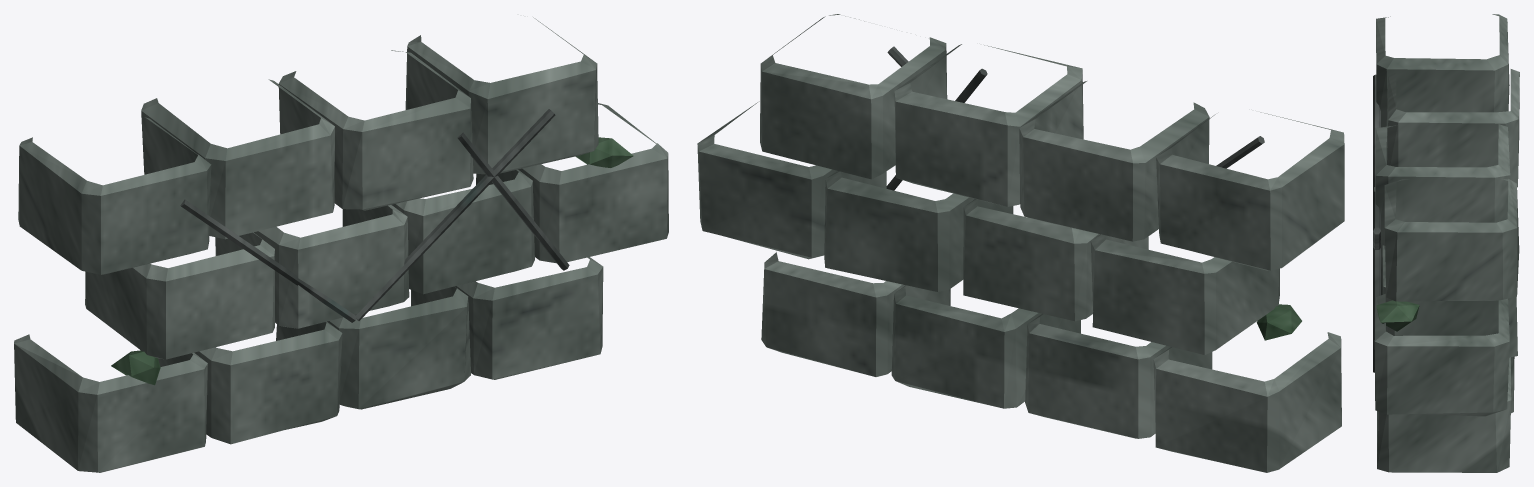
Rendered from 0343_wall_section_18.glb.
3 views of the same model, side by side, from view 1: azimuth 30°, elevation 25°; view 2: azimuth 150°, elevation 25°; view 3: azimuth 270°, elevation 25° (orthographic). The views are drawn at different scales.
Visible parts, largest first — view 1: stone, iron, moss; view 2: stone, iron, moss; view 3: stone, iron, moss.
Boxes of the visible parts, left/top/right/bottom form: stone: left=14, top=17, right=668, bottom=472; iron: left=180, top=109, right=569, bottom=322; moss: left=111, top=137, right=633, bottom=385; stone: left=697, top=14, right=1344, bottom=472; iron: left=886, top=46, right=1264, bottom=190; moss: left=1256, top=304, right=1301, bottom=340; stone: left=1374, top=14, right=1519, bottom=472; iron: left=1373, top=74, right=1380, bottom=372; moss: left=1376, top=300, right=1419, bottom=331.
Size of the model in its own units: 2.33 by 1.12 by 0.5877.
3 materials, 3 textured.
